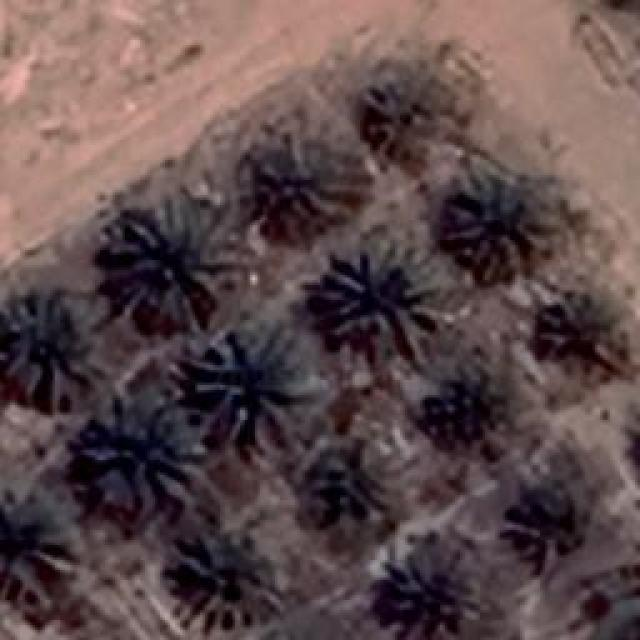PalmTree: (108, 200, 242, 325), (320, 238, 452, 352), (80, 388, 205, 508), (190, 322, 305, 442), (0, 290, 102, 410), (250, 134, 365, 238), (442, 172, 548, 280), (180, 530, 280, 635), (0, 480, 72, 597), (386, 549, 474, 639), (538, 285, 630, 370), (350, 74, 442, 158), (425, 376, 505, 452), (504, 486, 578, 564), (305, 442, 375, 522)
